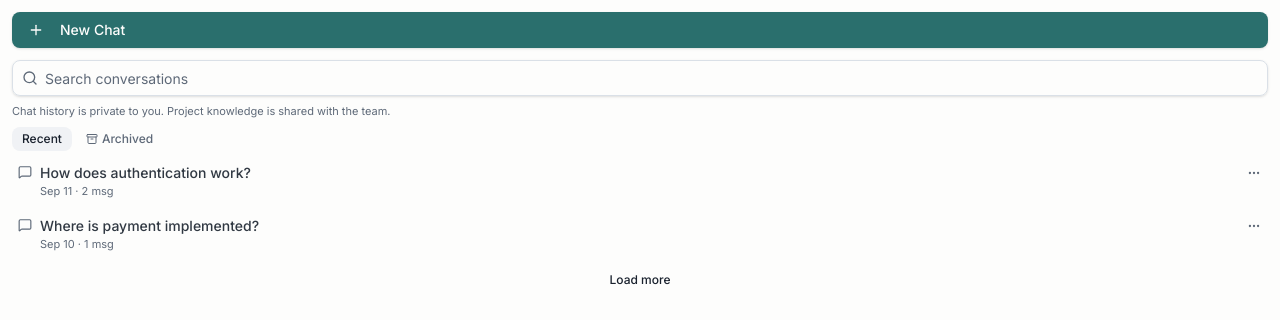
Test: ConversationList › loads the next page when Load more is available
This screenshot has width=1280, height=320.
Click the button "Load more" at (640, 280), box x1=16 y1=264 x2=1264 y2=296
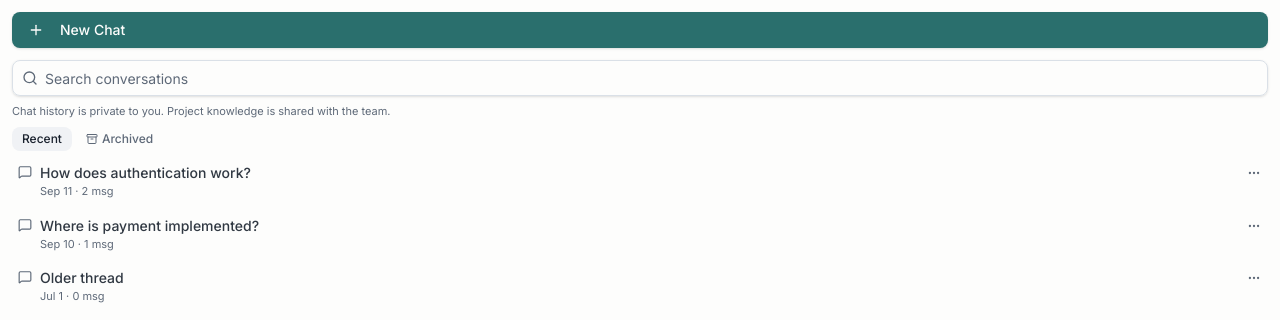
Now the text "Older thread" is shown, box x1=40 y1=269 x2=124 y2=286
